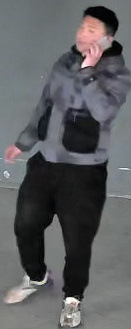phone: (68, 2, 123, 138)
